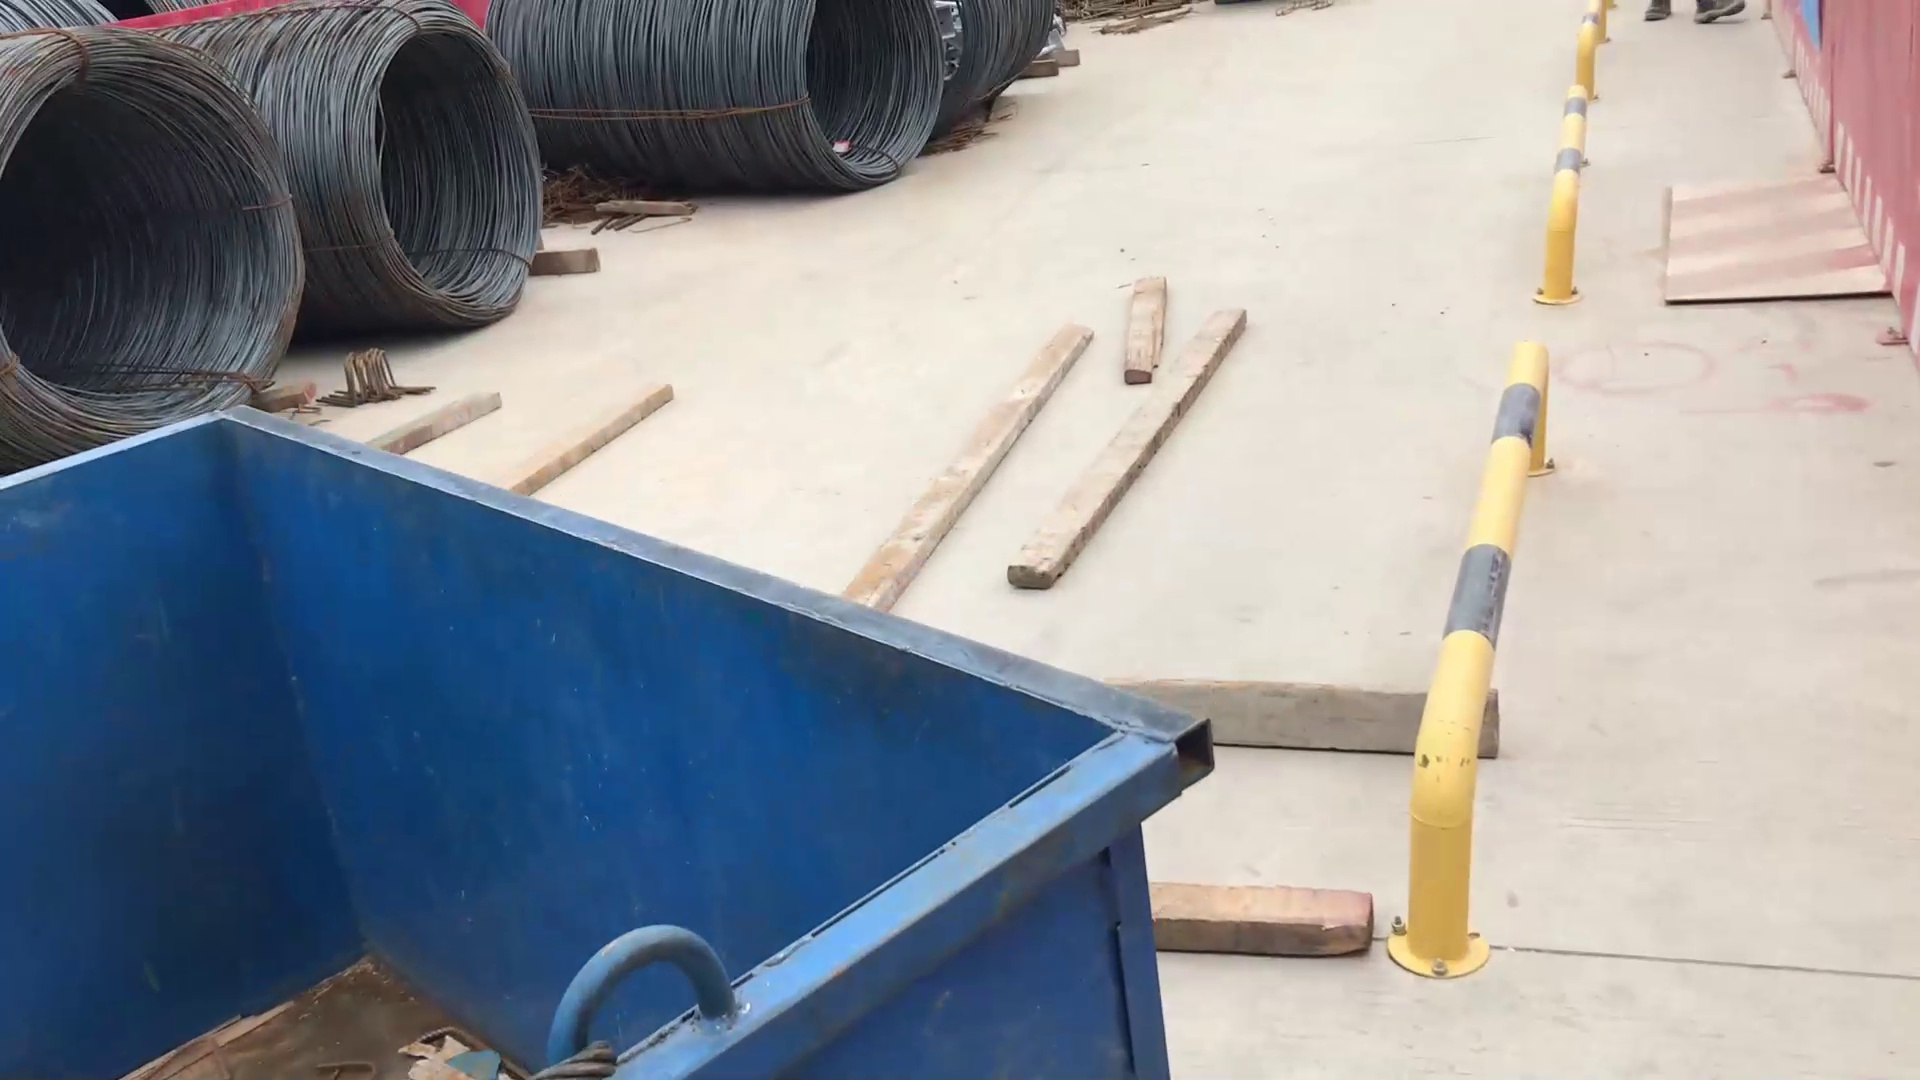hopper: (1, 388, 1226, 1079)
